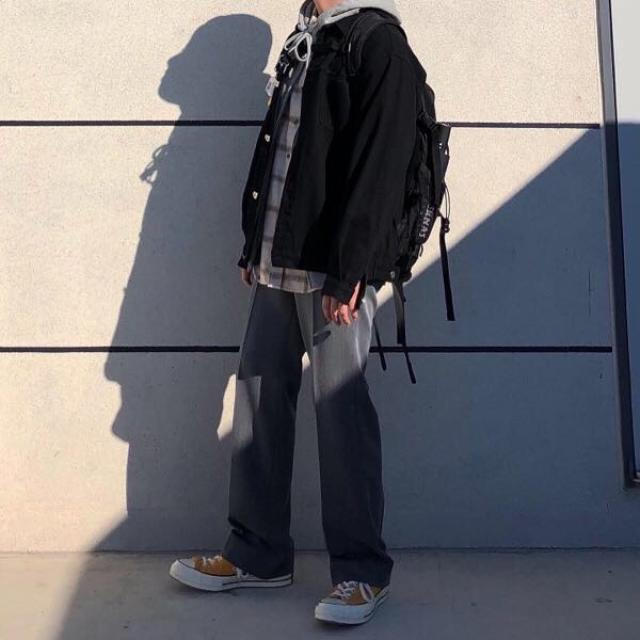jacket: (239, 0, 443, 306)
slacks: (219, 268, 393, 589)
